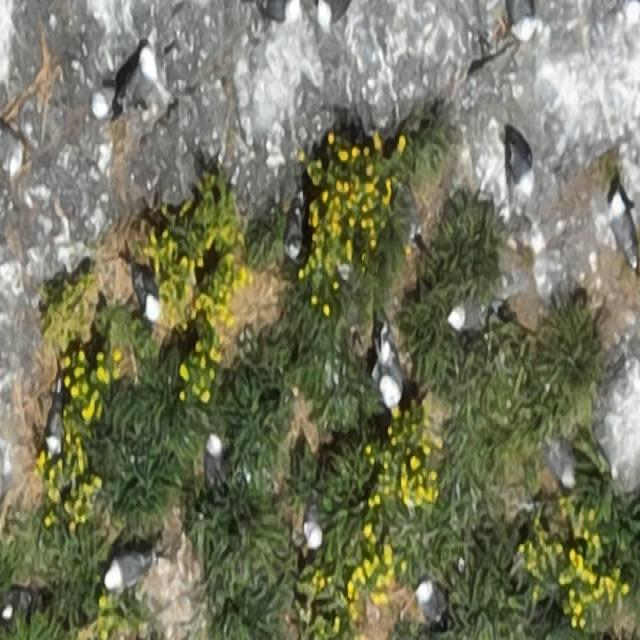umineko: (610, 190, 639, 273), (127, 255, 159, 320), (124, 46, 157, 109), (379, 339, 407, 411), (419, 580, 450, 628), (45, 386, 65, 458), (202, 434, 225, 494), (108, 555, 150, 587), (305, 494, 328, 549), (284, 200, 304, 262), (511, 148, 536, 195), (448, 305, 486, 330), (92, 81, 115, 121)
